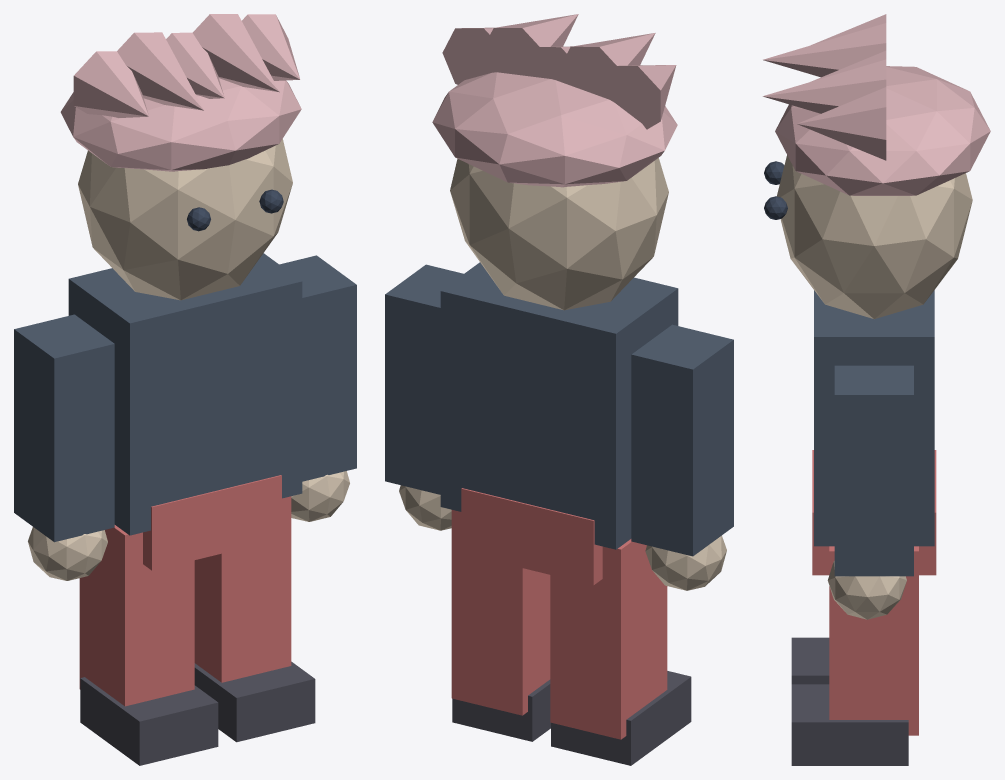
Rendered from yuji.glb.
3 renders of one model, left to right at view 1: azimuth 30°, elevation 25°; view 2: azimuth 150°, elevation 25°; view 3: azimuth 270°, elevation 25°, orthographic. The views are drawn at different scales.
Parts seen in each view (by area): view 1: part_000, part_010, part_002, part_004, part_013, part_008, part_006, part_001, part_005, part_009, part_014, part_015 (+5 smaller); view 2: part_000, part_010, part_002, part_013, part_004, part_008, part_006, part_001, part_005, part_015, part_014, part_017 (+5 smaller); view 3: part_010, part_006, part_013, part_000, part_008, part_009, part_018, part_015, part_017, part_007, part_005, part_001 (+1 smaller).
Part boxes in pixels (x1,y1,x2,y2): part_000: (68, 253, 302, 535); part_010: (78, 139, 292, 300); part_002: (14, 314, 114, 542); part_004: (79, 525, 194, 706); part_013: (60, 78, 301, 171); part_008: (194, 496, 291, 682); part_006: (279, 255, 356, 481); part_001: (143, 475, 281, 570); part_005: (80, 677, 218, 765); part_009: (194, 661, 315, 742); part_014: (73, 51, 148, 117); part_015: (117, 32, 203, 110); part_000: (440, 262, 678, 549); part_010: (450, 158, 668, 310); part_002: (631, 324, 733, 556); part_013: (432, 72, 677, 187); part_004: (550, 539, 667, 739); part_008: (451, 510, 550, 715); part_006: (385, 264, 463, 494); part_001: (461, 488, 602, 585); part_005: (551, 671, 691, 765); part_015: (558, 33, 655, 103); part_014: (596, 65, 676, 129); part_017: (481, 14, 578, 77); part_010: (777, 155, 972, 319); part_006: (834, 365, 913, 576); part_013: (775, 66, 990, 195); part_000: (814, 290, 934, 546); part_008: (829, 546, 918, 735); part_009: (791, 684, 908, 765); part_018: (797, 87, 886, 160); part_015: (763, 23, 886, 77); part_017: (763, 59, 886, 113); part_007: (827, 561, 906, 619); part_005: (791, 637, 829, 684); part_001: (812, 450, 936, 575).
Bounding box in the file's own units: 1.03 × 2.17 × 0.6628.
